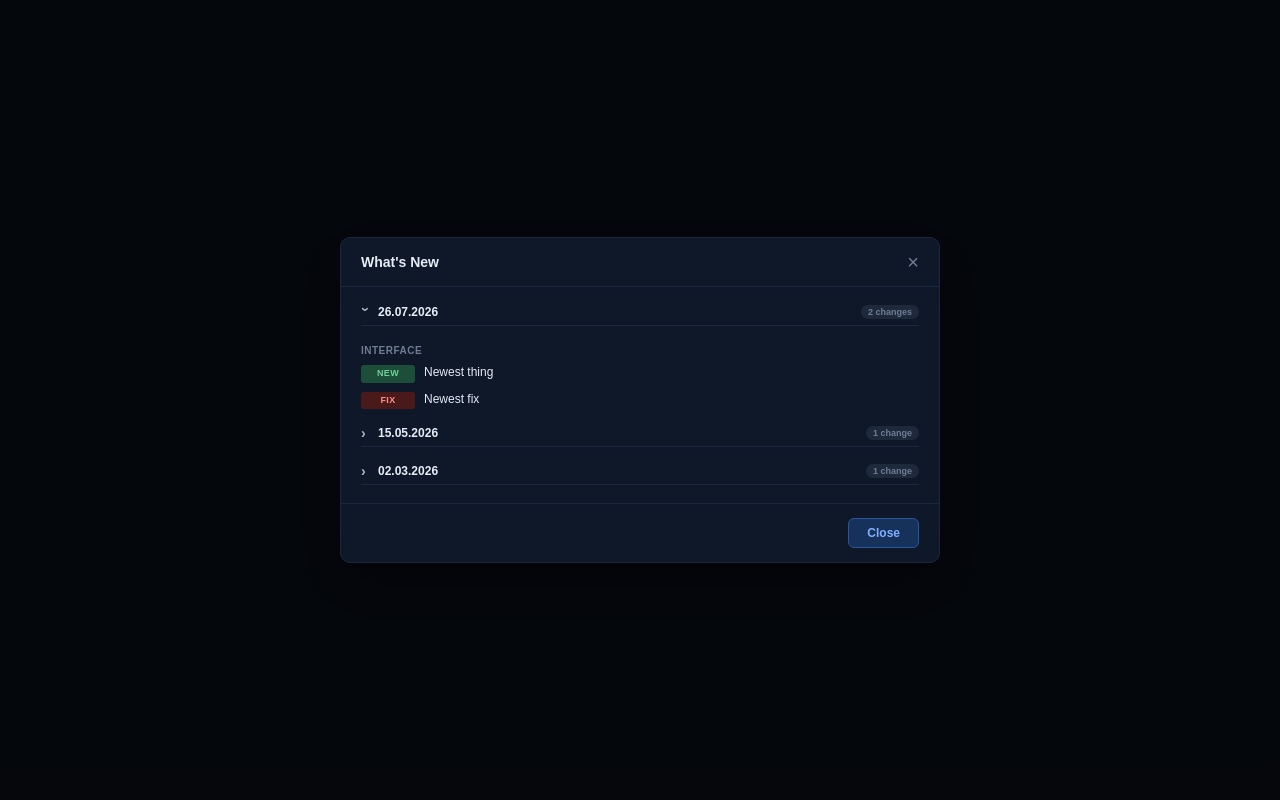
collapses the newest release when its heading is clicked
The width and height of the screenshot is (1280, 800).
What coordinates should you click on to do the following:
click the button with class "wn-version" showing "› 26.07.2026 2 changes"
I would click on:
 (408, 312)
Its box is [361,305,919,326].
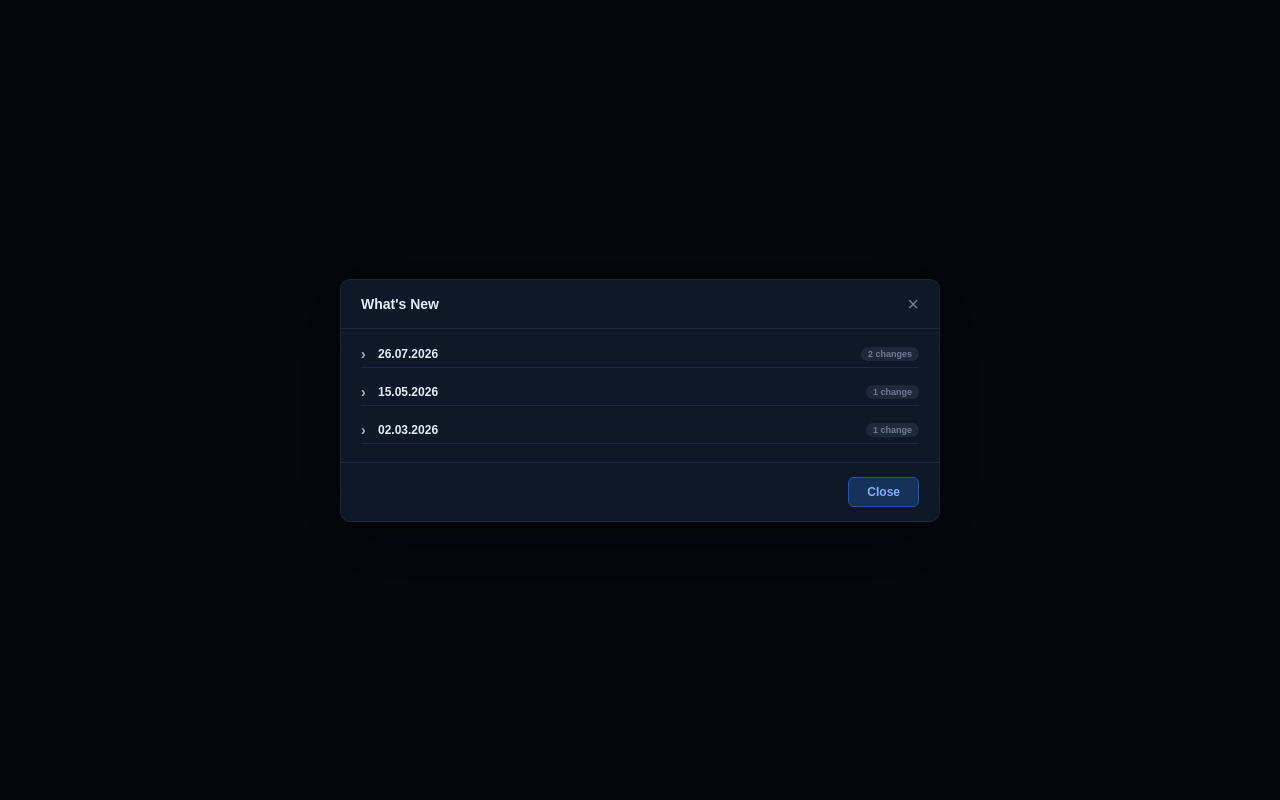
Check: the text "Newest thing" is gone
